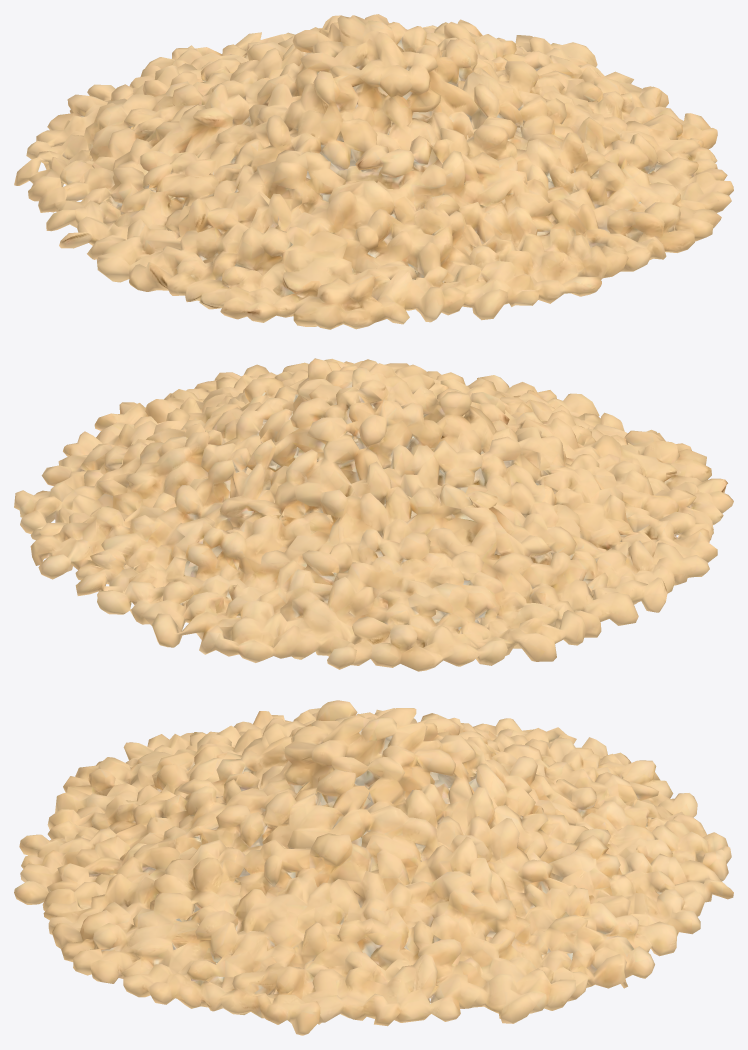
Rendered from wheat-seeds.glb.
The picture shows the model from 3 angles, top to bottom: view 1: azimuth 30°, elevation 25°; view 2: azimuth 150°, elevation 25°; view 3: azimuth 270°, elevation 25°; orthographic projection. The views are drawn at different scales.
Parts seen in each view (by area): view 1: Mesh_0; view 2: Mesh_0; view 3: Mesh_0.
Part boxes in pixels (box(x1,y1,x2,y2)): Mesh_0: box(14, 14, 733, 329); Mesh_0: box(14, 358, 733, 671); Mesh_0: box(14, 700, 733, 1035).
Size of the model in its own units: 0.2364 by 0.06 by 0.2317.
1 material, 1 textured.
